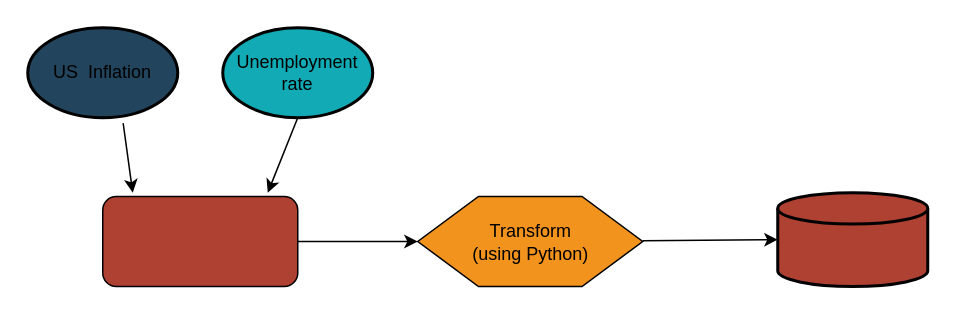
The diagram is 954 pixels wide and 314 high, and some of its shapes have lost their labels. The centre of each missing label's shape, as x and y in pixels:
"Extract (from Kaggle dataset)" belongs at pixel 199 240.
"Load (to BigQuery)" belongs at pixel 852 238.
